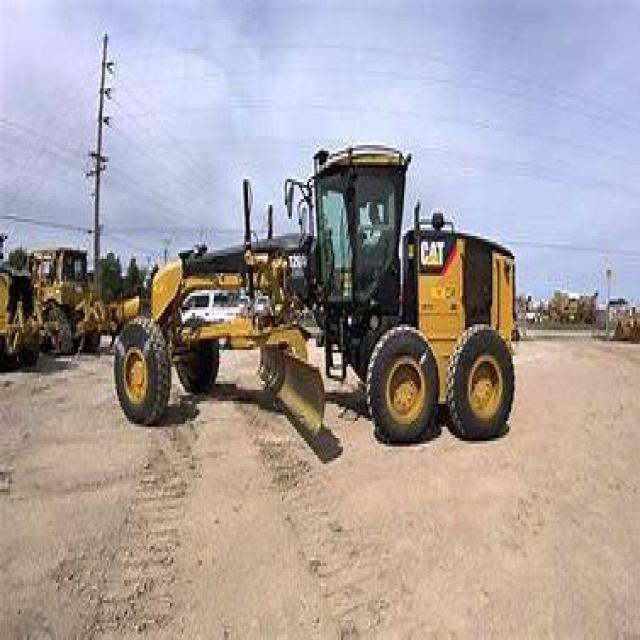buldozerpayloadergrader: (107, 134, 526, 455)
